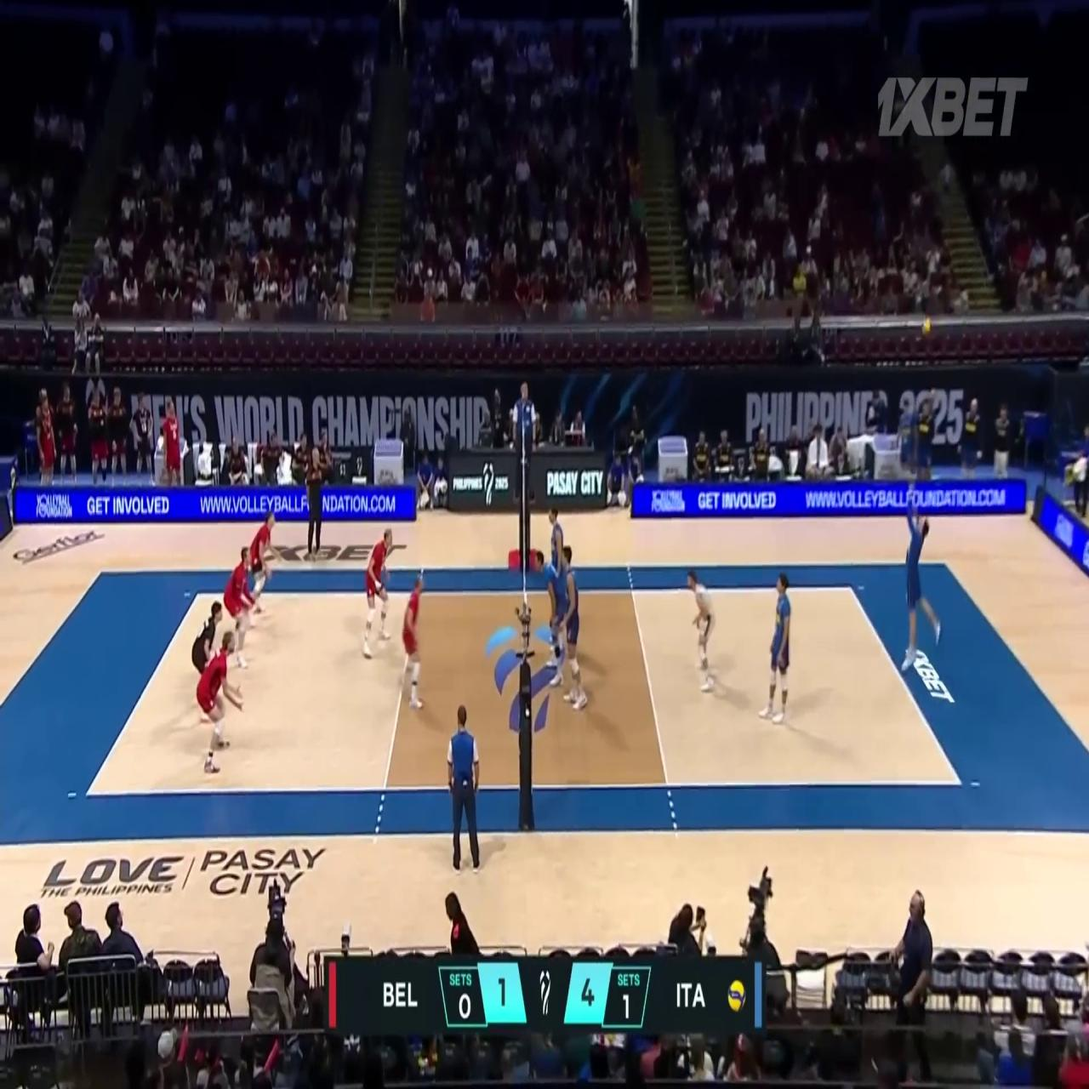ball: (921, 318, 931, 337)
